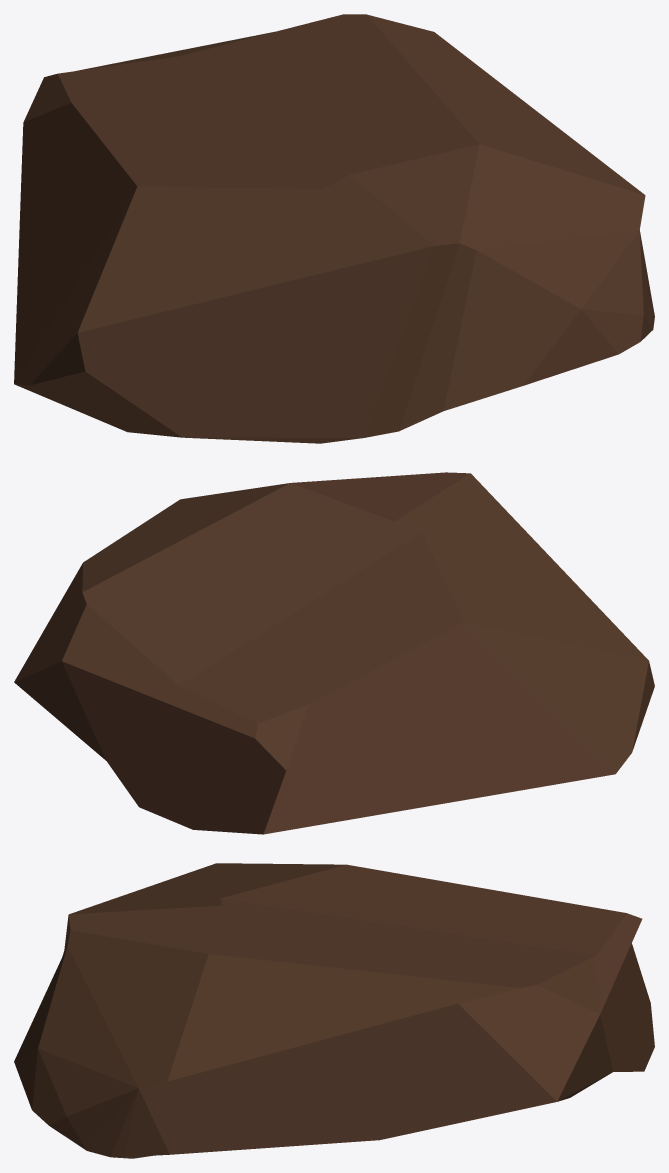
Rendered from rock3.fbx.
The picture shows the model from 3 angles, top to bottom: view 1: azimuth 30°, elevation 25°; view 2: azimuth 150°, elevation 25°; view 3: azimuth 270°, elevation 25°; orthographic projection. The views are drawn at different scales.
Parts seen in each view (by area): view 1: Sphere; view 2: Sphere; view 3: Sphere.
Part boxes in pixels (x1,y1,x2,y2): Sphere: (14, 14, 654, 443); Sphere: (14, 472, 654, 834); Sphere: (14, 863, 654, 1158).
Bounding box in the file's own units: 281 × 107 × 297.
